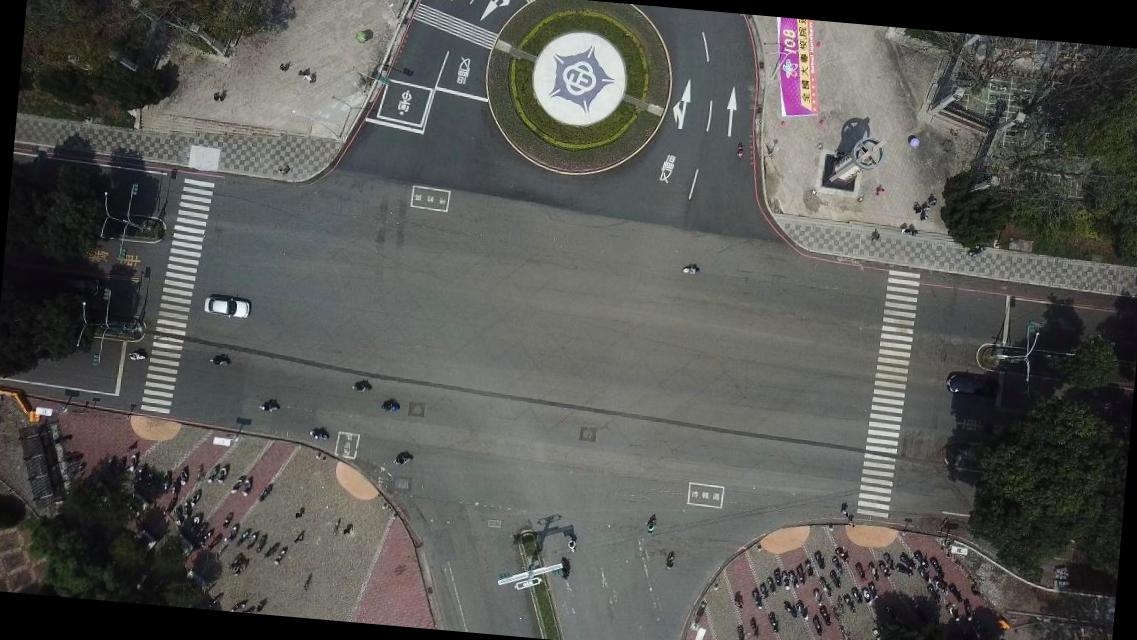vehicle: (943, 368, 1003, 401), (200, 295, 251, 321)
